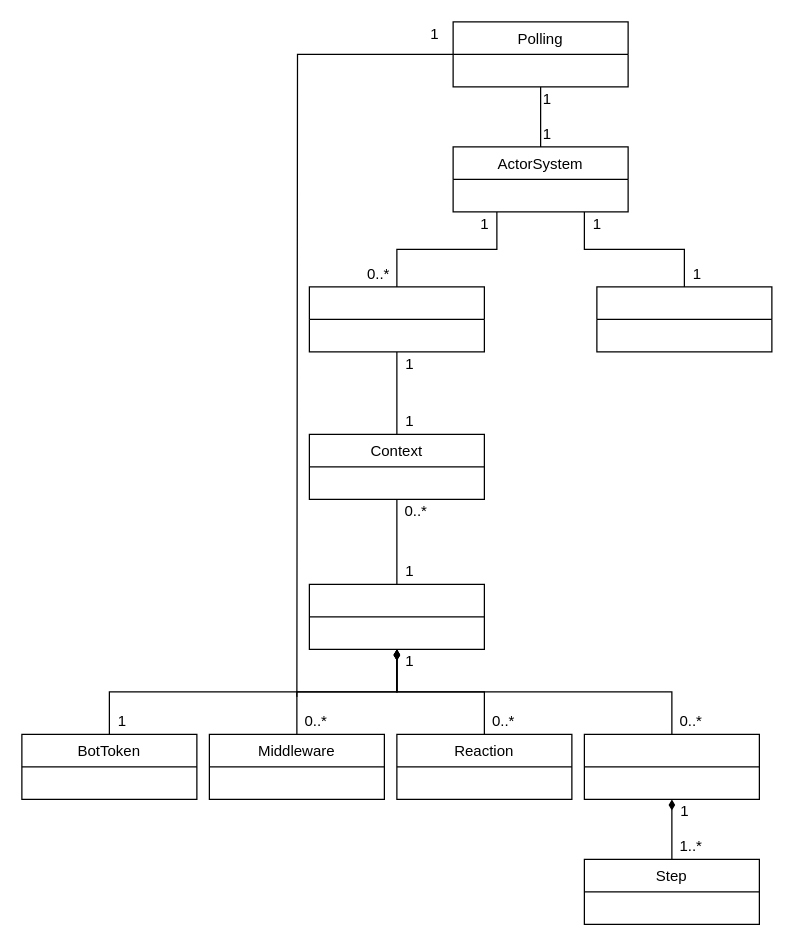
Image size: 794x946. Some labels were removed from this diagram. Here are the shapes that lost their labels. From the top down, the box of each, then its label:
(308, 286, 484, 352): WorkerActor
(596, 286, 772, 352): UpdateDispatcherActor
(308, 583, 484, 649): Scalagram
(583, 733, 759, 799): Scene
